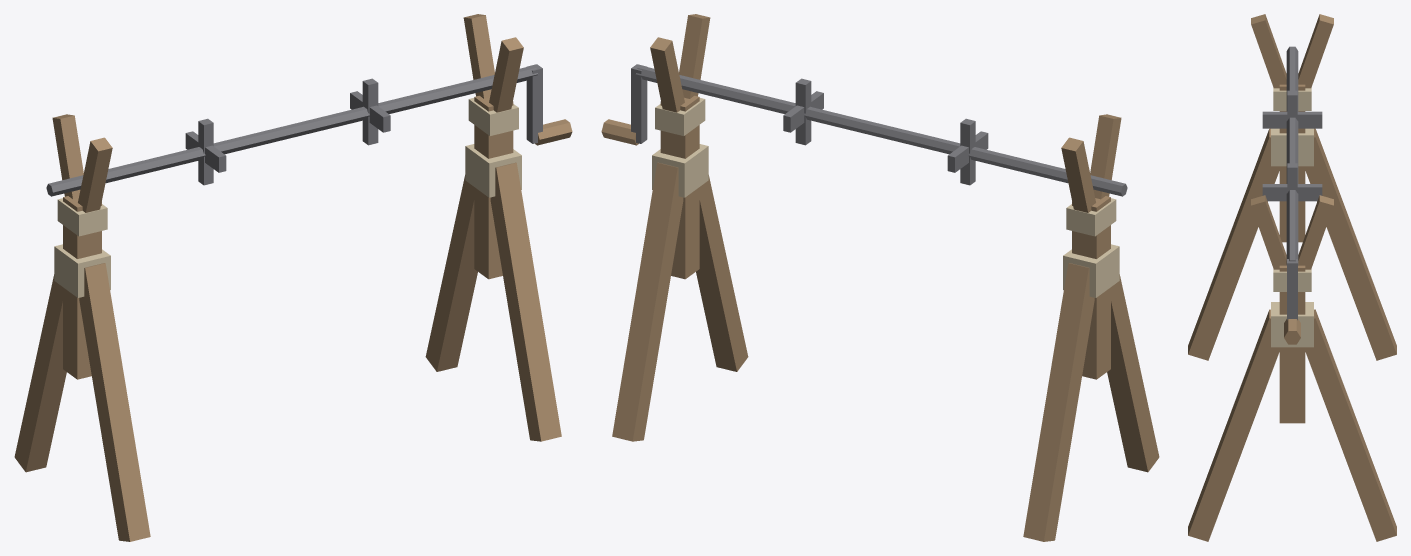
The model's file is prop-roasting-spit-wood.glb.
3 renders of one model, left to right at view 1: azimuth 30°, elevation 25°; view 2: azimuth 150°, elevation 25°; view 3: azimuth 270°, elevation 25°, orthographic. The views are drawn at different scales.
Visible parts, largest first — view 1: prop-roasting-spit-wood; view 2: prop-roasting-spit-wood; view 3: prop-roasting-spit-wood.
Boxes of the visible parts, x1,y1,x2,y2 form: prop-roasting-spit-wood: (14,14,572,541); prop-roasting-spit-wood: (601,14,1159,541); prop-roasting-spit-wood: (1188,14,1396,541).
Bounding box in the file's own units: 1.26 × 0.8734 × 0.4873.
